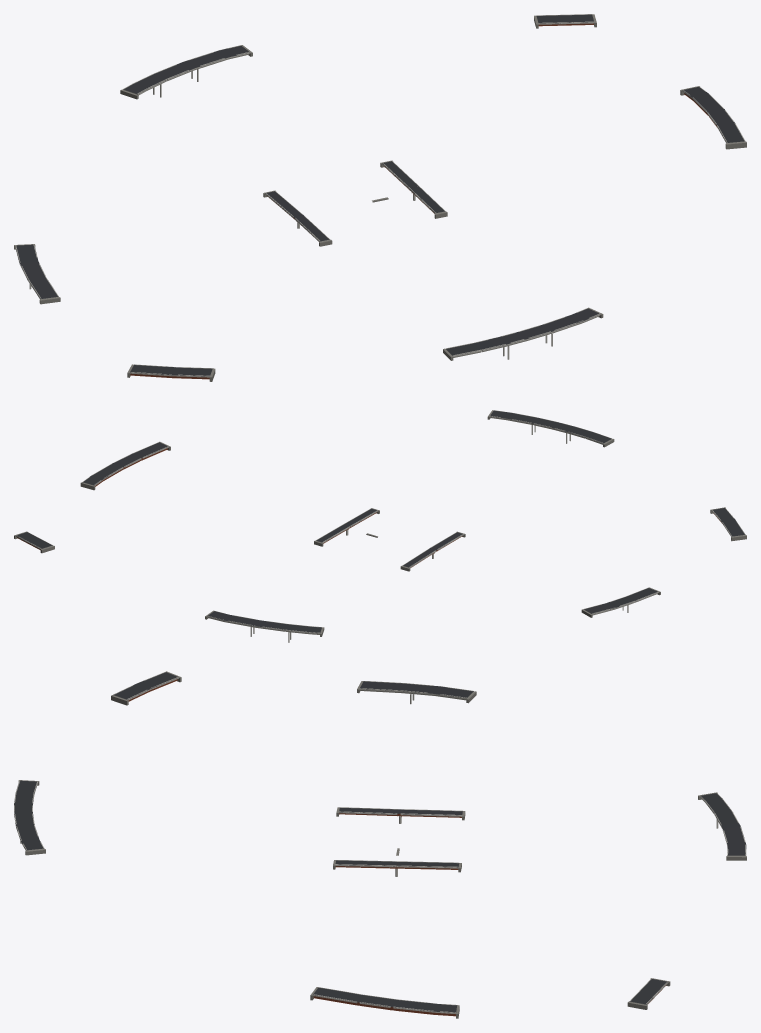
File: br_h39_henday_yellowhead_2_lod1.gltf
The picture shows the model from 3 angles, top to bottom: view 1: azimuth 30°, elevation 25°; view 2: azimuth 150°, elevation 25°; view 3: azimuth 270°, elevation 25°; orthographic projection. The views are drawn at different scales.
Visible parts, largest first — view 1: br_h39_henday_yellowhead_2_lod1; view 2: br_h39_henday_yellowhead_2_lod1; view 3: br_h39_henday_yellowhead_2_lod1.
Part boxes in pixels (x1=…): br_h39_henday_yellowhead_2_lod1: x1=14, y1=14, x2=746, y2=381; br_h39_henday_yellowhead_2_lod1: x1=14, y1=410, x2=746, y2=642; br_h39_henday_yellowhead_2_lod1: x1=14, y1=671, x2=746, y2=1018.
Size of the model in its own units: 602 by 23.14 by 541.
